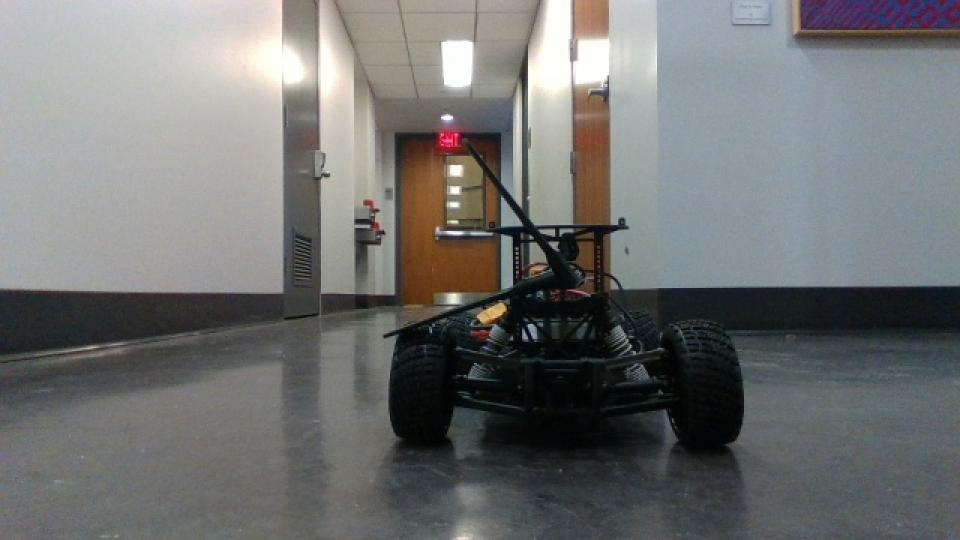car: (381, 133, 747, 453)
